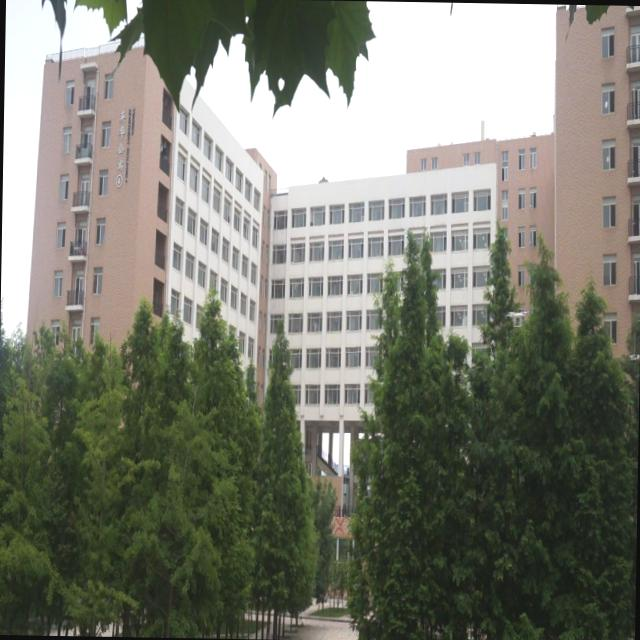drone: (504, 308, 530, 332)
